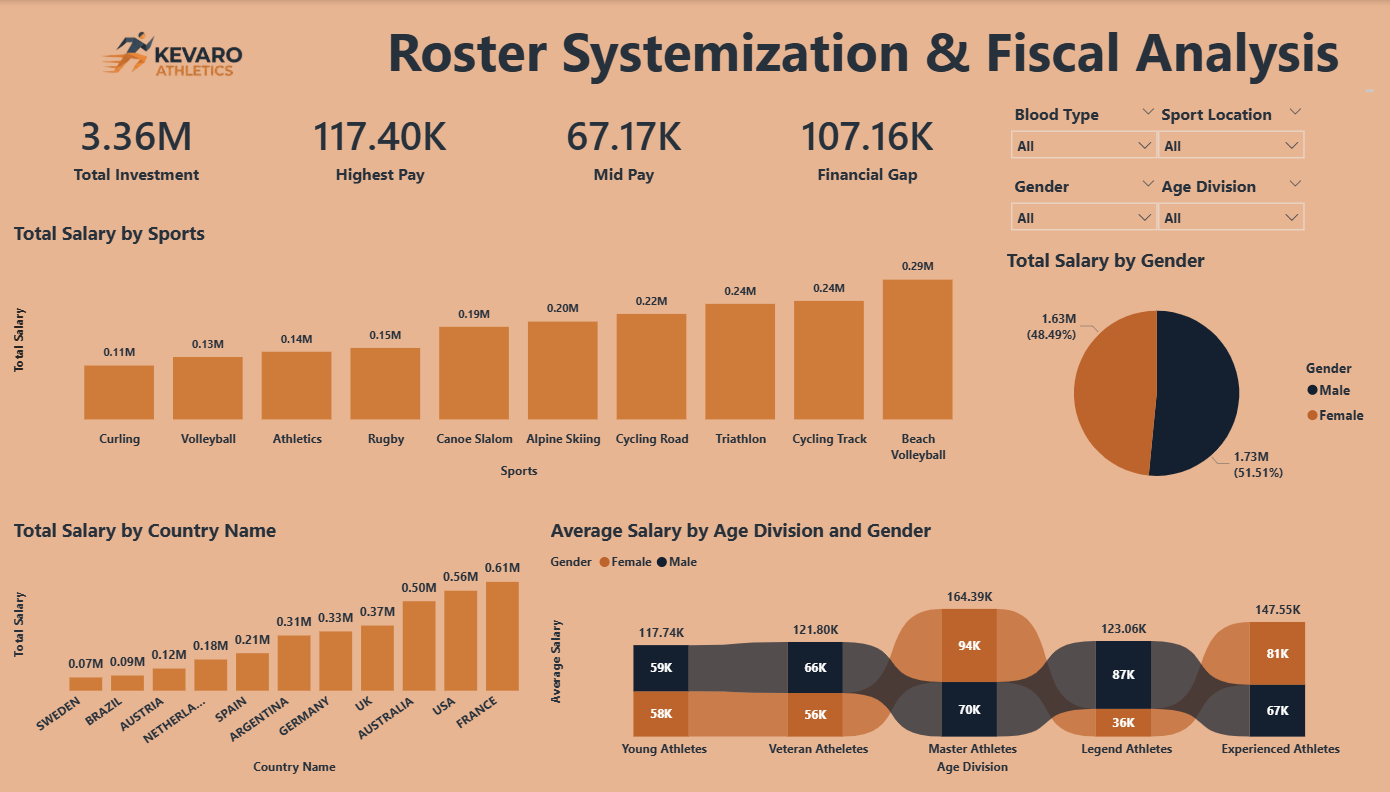

The page's visual inventory and layout, read from the dashboard file:
{"tool":"powerbi","page":{"name":"Fiscal Overview","canvas":[1400,800],"ordinal":1},"visuals":[{"type":"textbox","title":"Roster Systemization & Fiscal Analysis","box":[349.4,14,1032.5,83.9],"z":0},{"type":"image","box":[15.7,14,333.7,83.9],"z":1000},{"type":"cardVisual","fields":{"Data":["Sum(Table.SALARY )","Max(Table.SALARY )","Avg(Member.SALARY )","Table.Financial Gap"]},"box":[11,98.6,986.1,91.3],"z":2000},{"type":"slicer","fields":{"Values":["Table.AGE DIVISION"]},"box":[1151.3,169.5,166,70],"z":3000},{"type":"slicer","fields":{"Values":["Member.GENDER"]},"box":[1004.6,169.5,166,70],"z":4000},{"type":"slicer","fields":{"Values":["Member.SPORT LOCATION"]},"box":[1151.3,97.8,166,70],"z":5000},{"type":"slicer","fields":{"Values":["Table.BLOOD TYPE"]},"box":[1004.6,97.8,166,70],"z":6000},{"type":"clusteredColumnChart","fields":{"Category":["Member.SPORTS"],"Y":["Sum(Table.SALARY )"]},"box":[10.5,220.8,986.8,262.8],"z":7000},{"type":"clusteredColumnChart","fields":{"Category":["Member.COUNTRY NAME"],"Y":["Sum(Table.SALARY )"]},"box":[10.5,518.9,532.9,262.1],"z":8000},{"type":"pieChart","fields":{"Category":["Member.GENDER"],"Y":["Sum(Table.SALARY )"]},"box":[1004.4,248.4,378,266.6],"z":9000},{"type":"ribbonChart","fields":{"Category":["Table.AGE DIVISION"],"Y":["Avg(Table.SALARY )"],"Series":["Table.GENDER"]},"box":[548.6,518.9,833.4,262.1],"z":12000}]}

Visuals, with their boxes in screenshot pixels (x1, y1, x2, y2), scaled from the page's 1400x800 canvas onto the 1390x792 screenshot:
"Roster Systemization & Fiscal Analysis" textbox: Rect(347, 14, 1372, 97)
image: Rect(16, 14, 347, 97)
cardVisual - Sum(Table.SALARY ) x Max(Table.SALARY ): Rect(11, 98, 990, 188)
slicer - Table.AGE DIVISION: Rect(1143, 168, 1308, 237)
slicer - Member.GENDER: Rect(997, 168, 1162, 237)
slicer - Member.SPORT LOCATION: Rect(1143, 97, 1308, 166)
slicer - Table.BLOOD TYPE: Rect(997, 97, 1162, 166)
clusteredColumnChart - Member.SPORTS x Sum(Table.SALARY ): Rect(10, 219, 990, 479)
clusteredColumnChart - Member.COUNTRY NAME x Sum(Table.SALARY ): Rect(10, 514, 540, 773)
pieChart - Member.GENDER x Sum(Table.SALARY ): Rect(997, 246, 1373, 510)
ribbonChart - Table.AGE DIVISION x Avg(Table.SALARY ): Rect(545, 514, 1372, 773)
